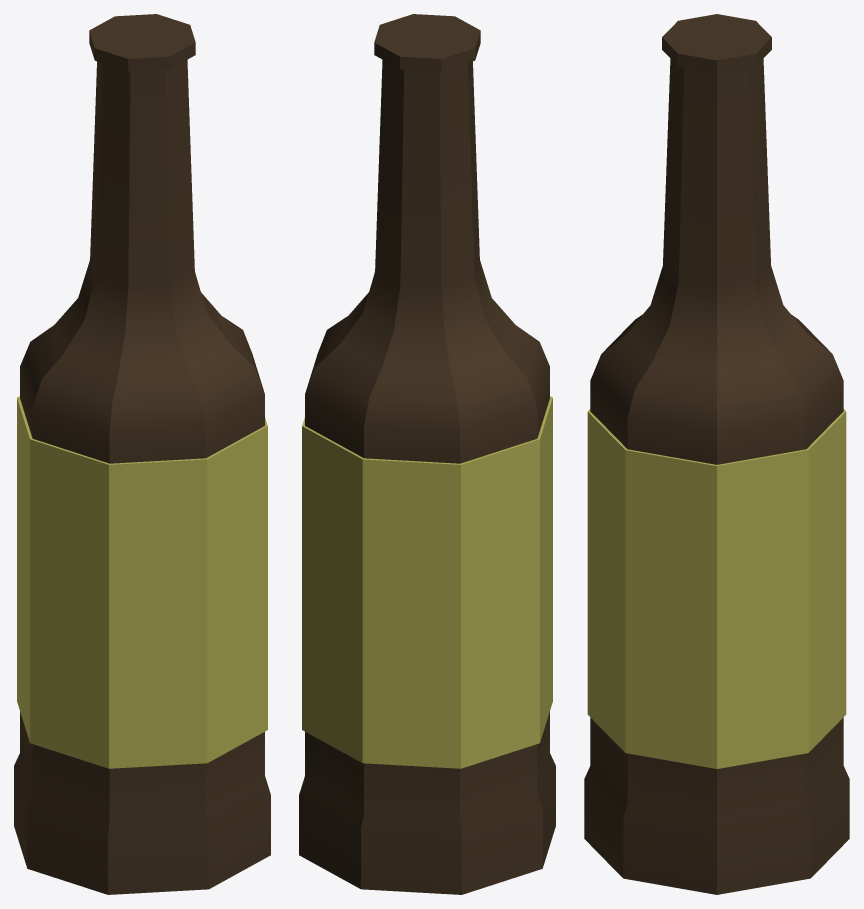
Rendered from soda5.fbx.
3 views of the same model, side by side, from view 1: azimuth 30°, elevation 25°; view 2: azimuth 150°, elevation 25°; view 3: azimuth 270°, elevation 25° (orthographic).
Visible parts, largest first — view 1: soda_5; view 2: soda_5; view 3: soda_5.
Part boxes in pixels (x1=…): soda_5: x1=14, y1=14, x2=270, y2=894; soda_5: x1=299, y1=14, x2=555, y2=894; soda_5: x1=584, y1=14, x2=849, y2=894.
Bounding box in the file's own units: 2.1 × 6.99 × 2.1.
